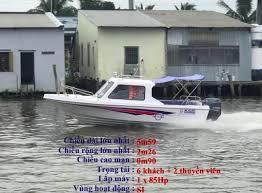Ship: (45, 78, 222, 128)
